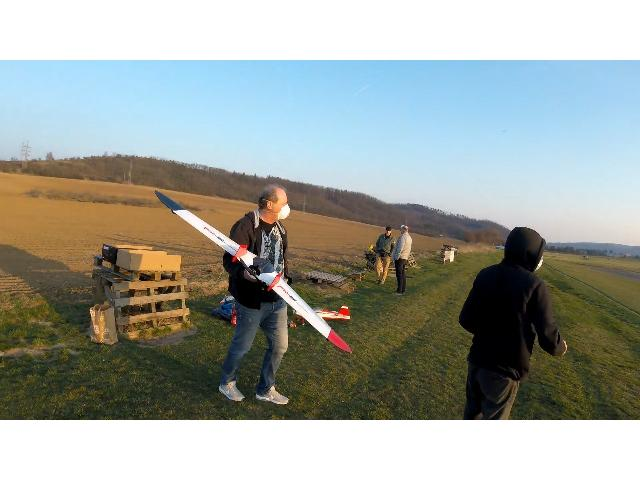Anti-Drone: (146, 187, 362, 356)
